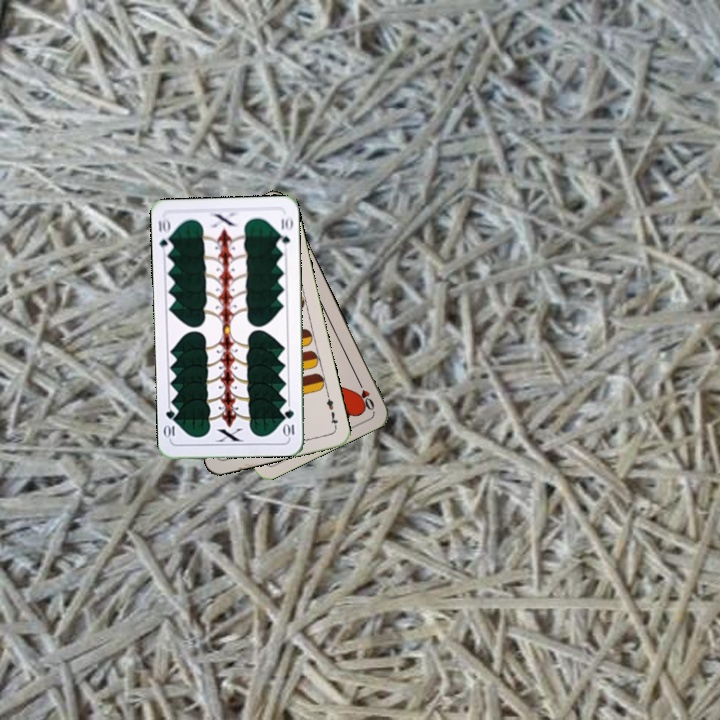E7: (322, 391, 341, 431)
G10: (154, 214, 175, 255), (281, 405, 297, 439)
HO: (353, 375, 377, 413)
